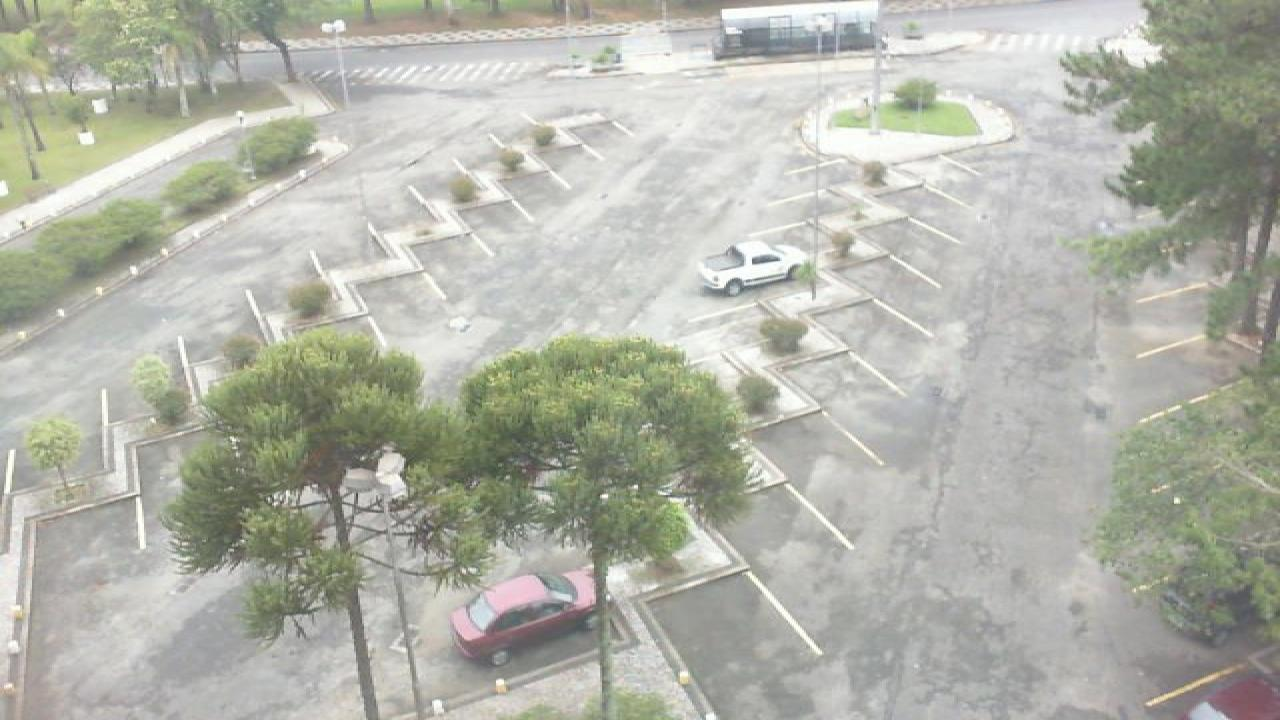Car: (448, 568, 604, 666), (696, 240, 810, 296), (1204, 676, 1280, 720)
